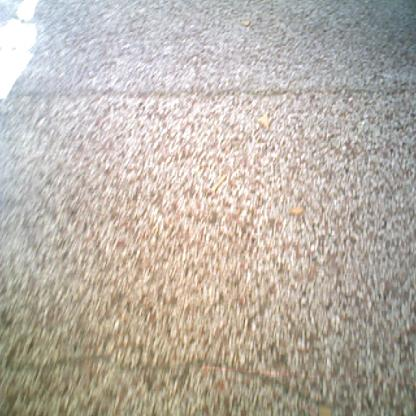dirty: (0, 1, 38, 102), (212, 173, 227, 195), (255, 110, 270, 131), (316, 404, 332, 416), (288, 206, 304, 218), (239, 18, 252, 27)
